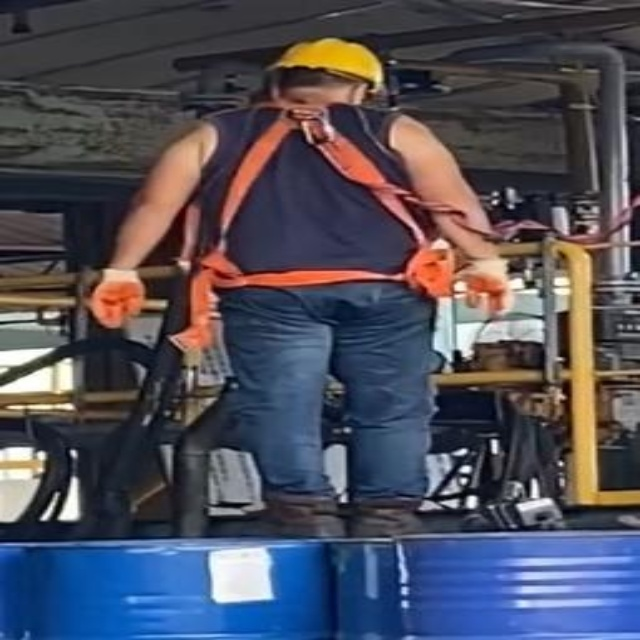Arnes_seguridad: (167, 111, 456, 355)
